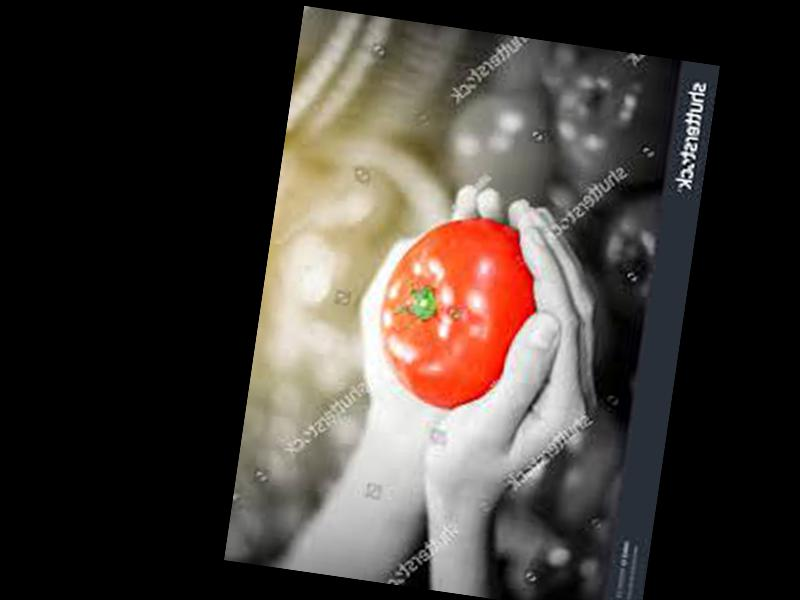Tomato: (369, 207, 546, 419)
